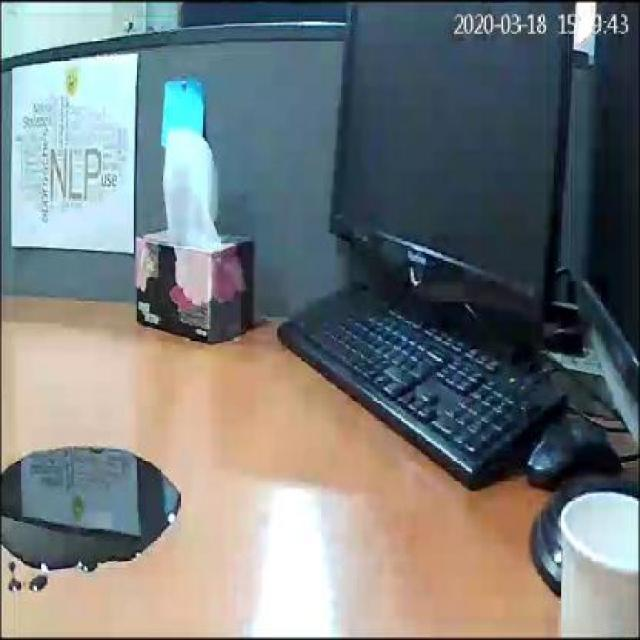spill: (1, 440, 181, 576)
